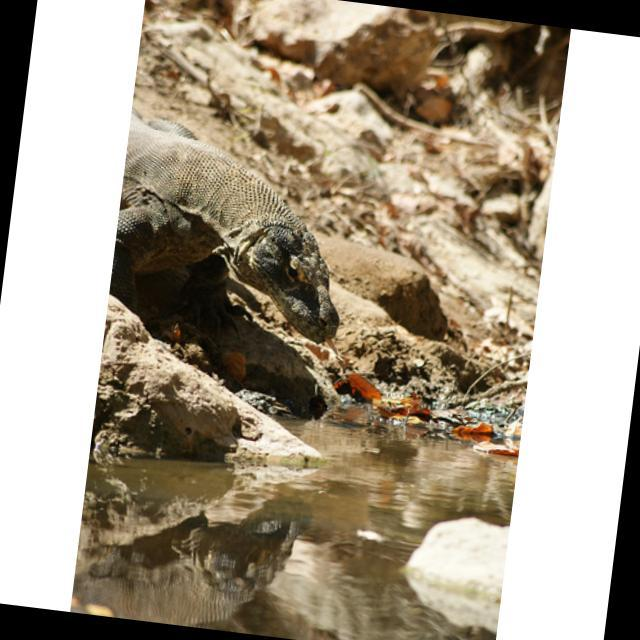KomodoDragon: (109, 119, 361, 344)
